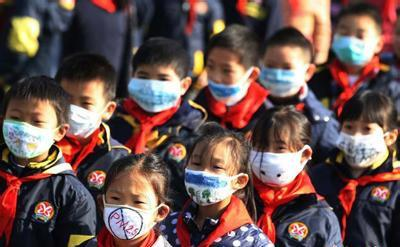OK: (106, 187, 161, 242), (185, 152, 237, 204), (251, 137, 301, 187), (53, 90, 104, 138), (4, 106, 53, 155), (133, 69, 180, 116), (342, 120, 387, 165), (262, 59, 307, 97), (335, 28, 376, 66)
WRONG: (206, 62, 249, 103)
